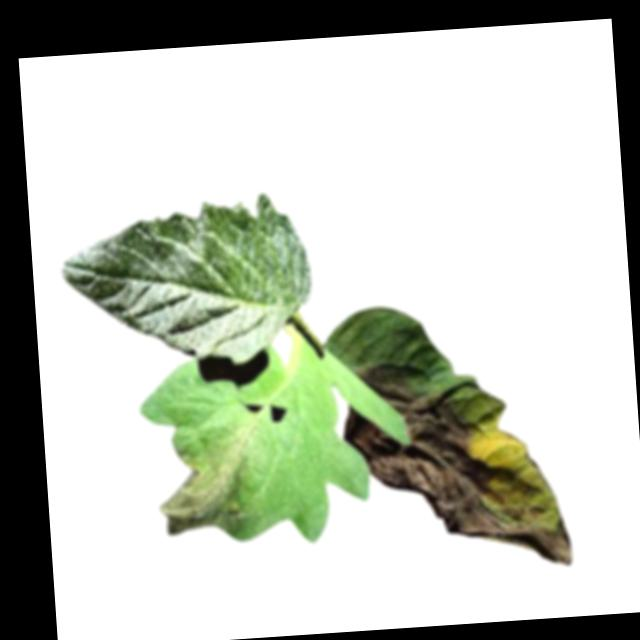Late_blight: (338, 351, 573, 581), (154, 436, 264, 541)
